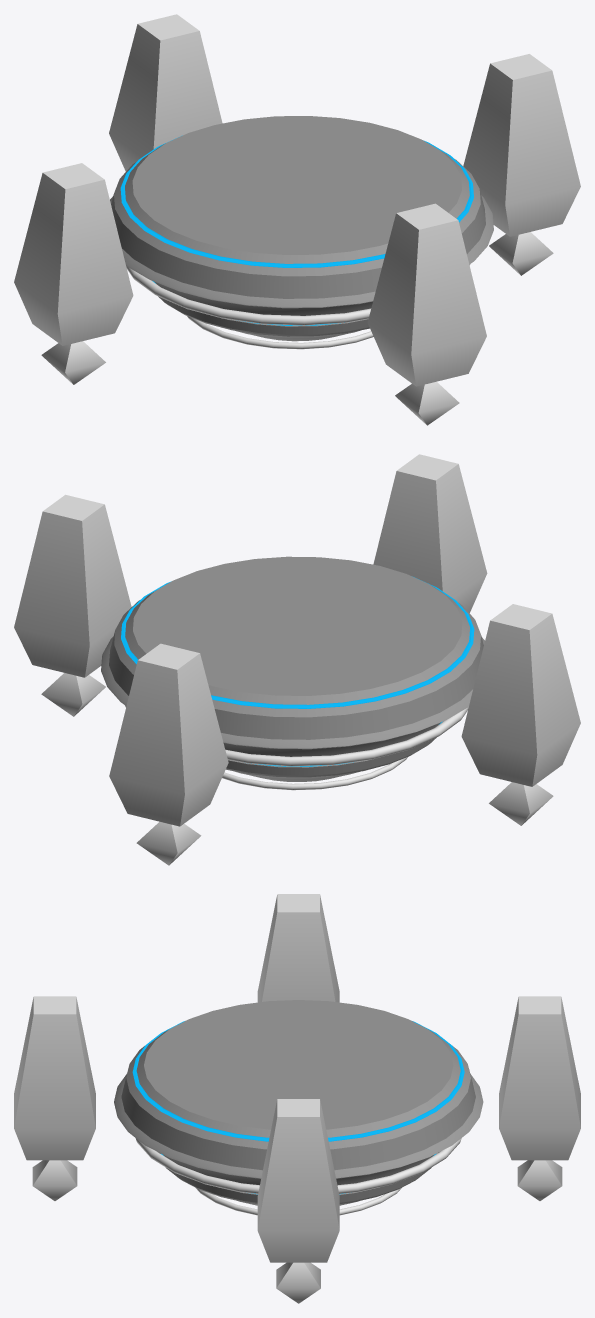
Rendered from Altar.FBX.
3 views of the same model, one above another, from view 1: azimuth 30°, elevation 25°; view 2: azimuth 150°, elevation 25°; view 3: azimuth 270°, elevation 25° (orthographic). The views are drawn at different scales.
Visible parts, largest first — view 1: Base, Pillar03, Pillar02, Pillar01, Pillar04, Ring1, Pyramid001, Pyramid002, Pyramid003, Ring2; view 2: Base, Pillar04, Pillar03, Pillar01, Pillar02, Ring1, Pyramid001, Pyramid004, Pyramid003, Ring2; view 3: Base, Pillar02, Pillar04, Pillar01, Pillar03, Ring1, Pyramid002, Pyramid004, Pyramid001, Ring2.
Part boxes in pixels (x1,y1,x2,y2): Base: (110,116,493,341); Pillar03: (14,163,133,345); Pillar02: (367,203,486,386); Pillar01: (463,54,580,236); Pillar04: (109,14,222,171); Ring1: (126,264,470,325); Pyramid001: (489,232,553,275); Pyramid002: (395,381,459,425); Pyramid003: (41,341,105,384); Ring2: (187,316,373,349); Base: (101,556,484,781); Pillar04: (109,643,228,826); Pillar03: (461,604,580,786); Pillar01: (14,494,131,677); Pillar02: (373,454,487,613); Ring1: (124,705,468,766); Pyramid001: (41,673,105,716); Pyramid004: (136,821,201,865); Pyramid003: (489,782,553,825); Ring2: (222,757,407,790); Base: (114,1000,483,1205); Pillar02: (14,996,95,1160); Pillar04: (499,996,580,1160); Pillar01: (257,1099,339,1262); Pillar03: (257,894,339,1002); Ring1: (135,1138,461,1193); Pyramid002: (32,1160,77,1200); Pyramid004: (517,1160,562,1200); Pyramid001: (276,1262,320,1303); Ring2: (195,1187,401,1215).
Bounding box in the file's own units: 113 × 43.28 × 113.
